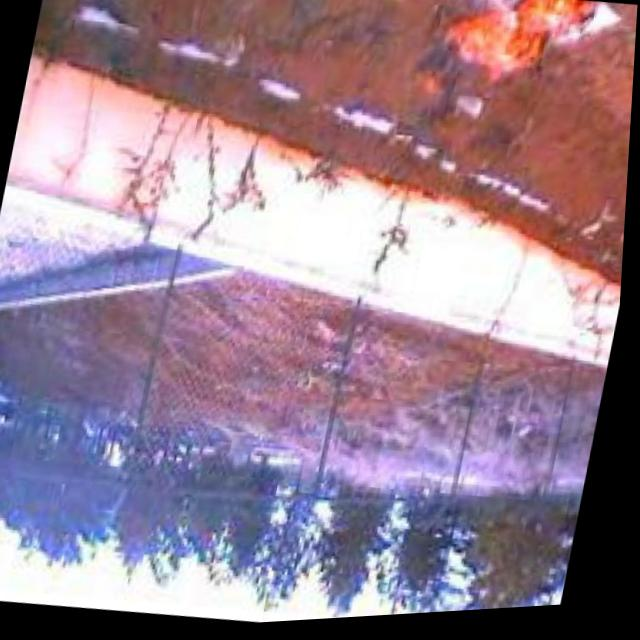Fire: (413, 0, 607, 122)
